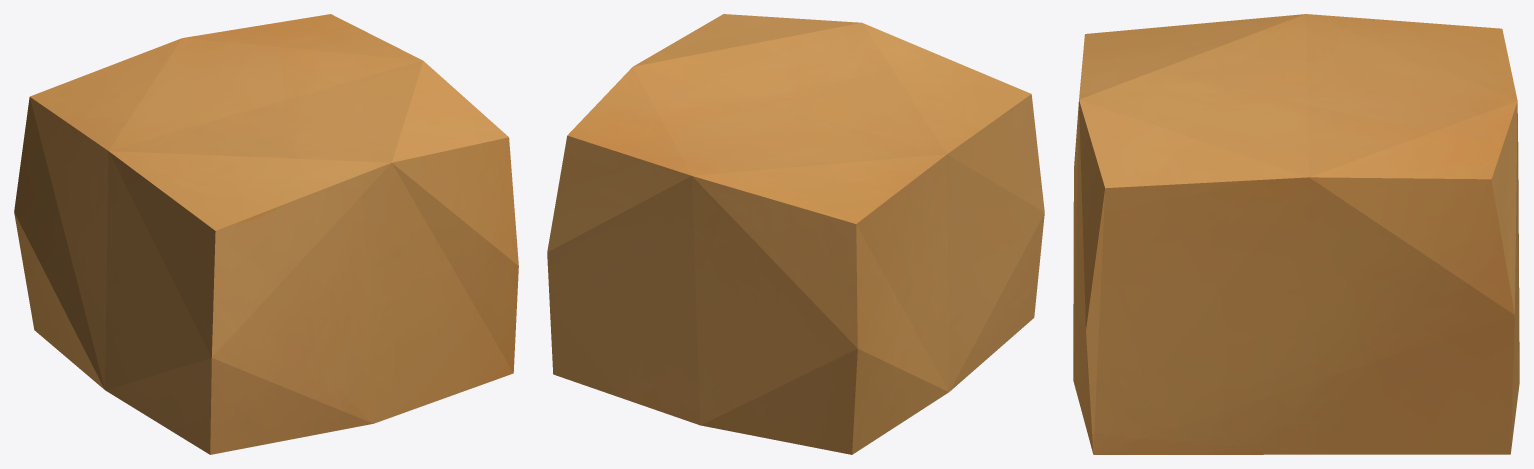
The model's file is Slab_03.fbx.
3 renders of one model, left to right at view 1: azimuth 30°, elevation 25°; view 2: azimuth 150°, elevation 25°; view 3: azimuth 270°, elevation 25°, orthographic. The views are drawn at different scales.
Parts seen in each view (by area): view 1: Slab_03; view 2: Slab_03; view 3: Slab_03.
Part boxes in pixels (bbox=[...]): Slab_03: bbox=[14, 14, 518, 454]; Slab_03: bbox=[547, 14, 1044, 454]; Slab_03: bbox=[1073, 14, 1519, 454].
Bounding box in the file's own units: 161 × 125 × 170.
Materials: 1 (1 with a texture image).
